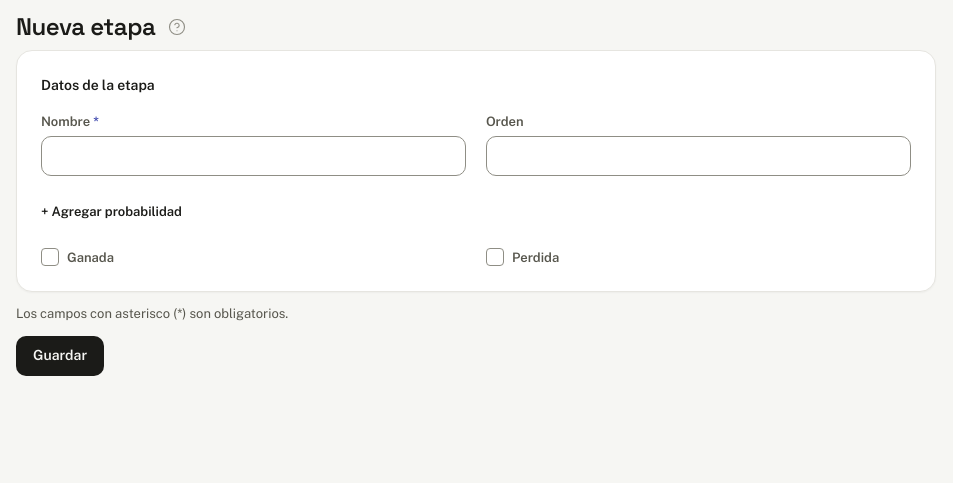
Test: StageFormPage › S24 409 por nombre duplicado se muestra visible y no navega
The image size is (953, 483).
Type "Cerrado" into the field labelled "Nombre" at {"x": 254, "y": 156}, box [41,136,466,176]
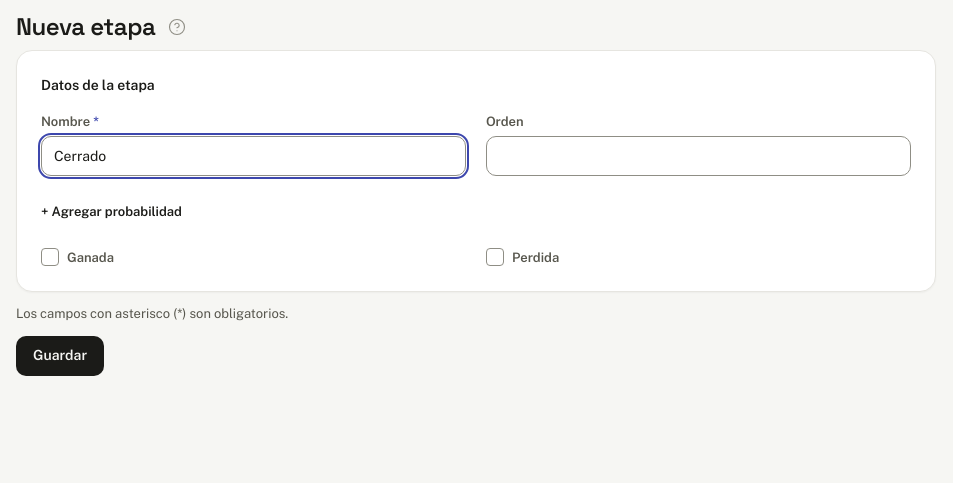
Click the button "Guardar" at {"x": 60, "y": 356}, box [16,336,104,376]
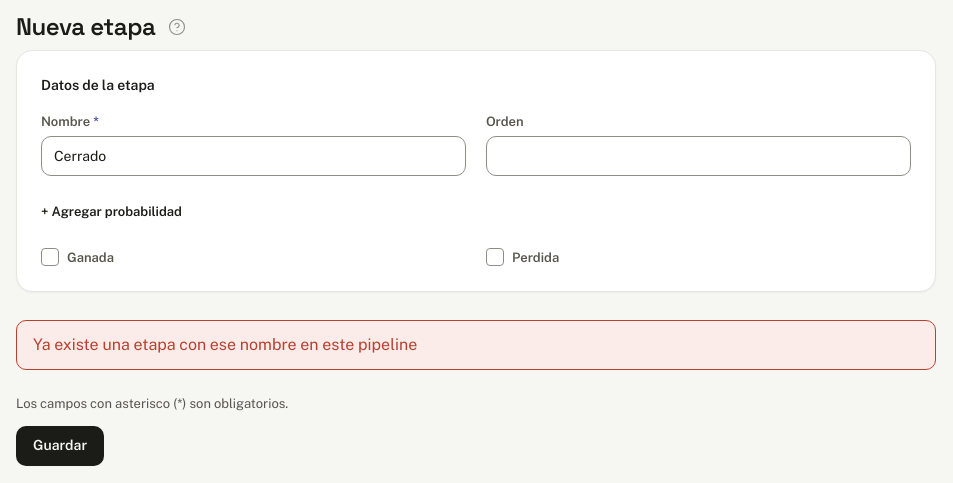
Result: the message reads "Ya existe una etapa con ese nombre en este pipeline" at [33,335,417,354]
